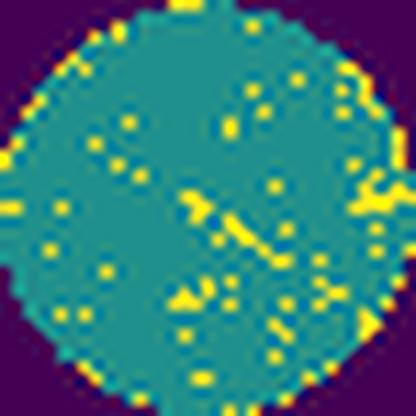Loc: (345, 165, 414, 216)
